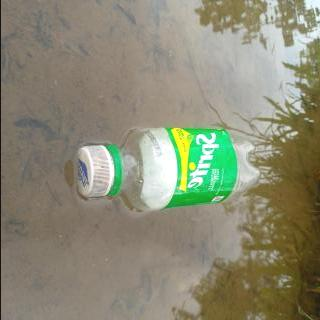bottle: (72, 125, 262, 213)
